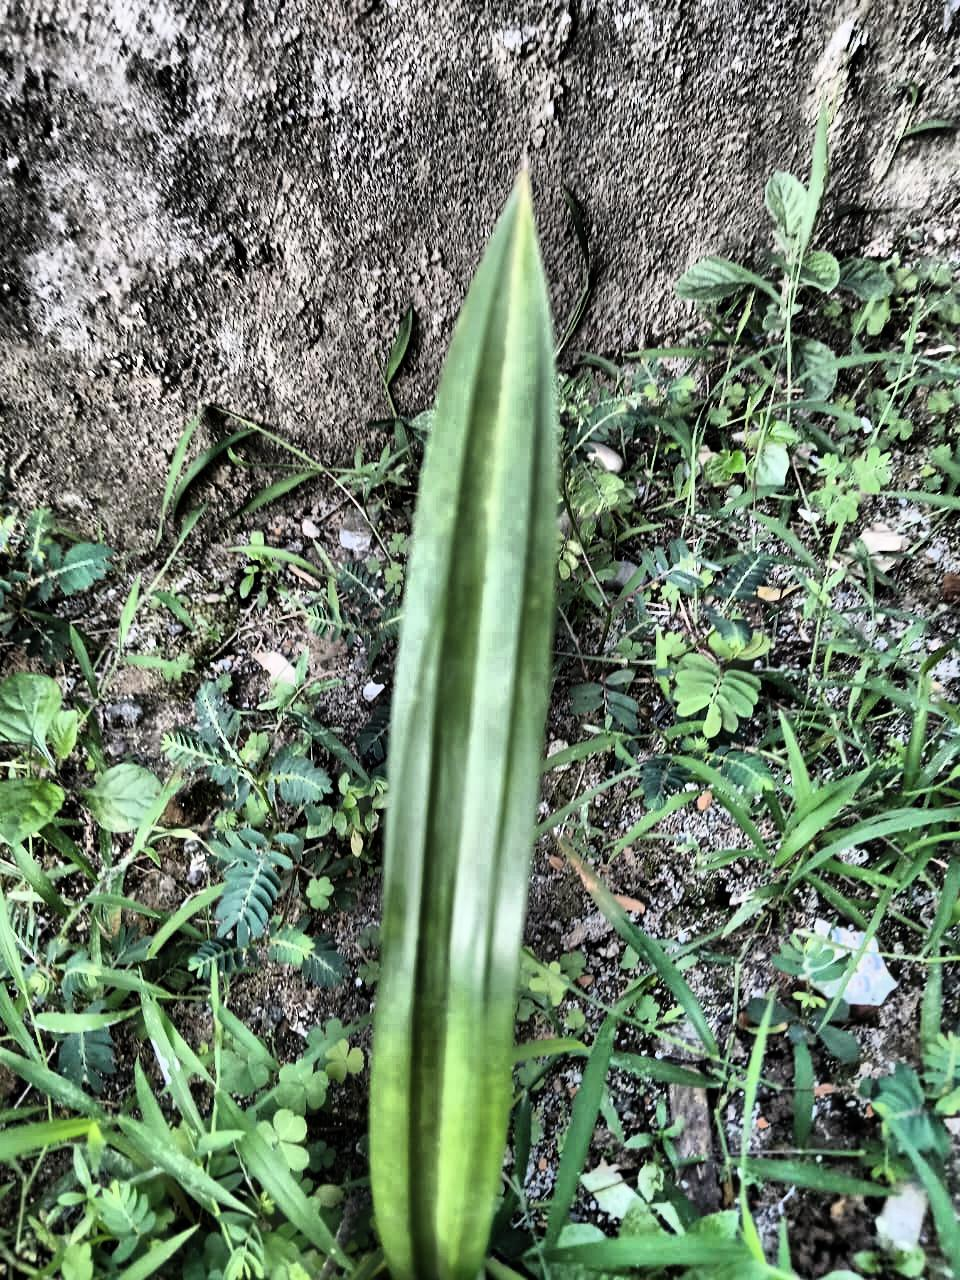daun pandan: (370, 173, 559, 1279)
